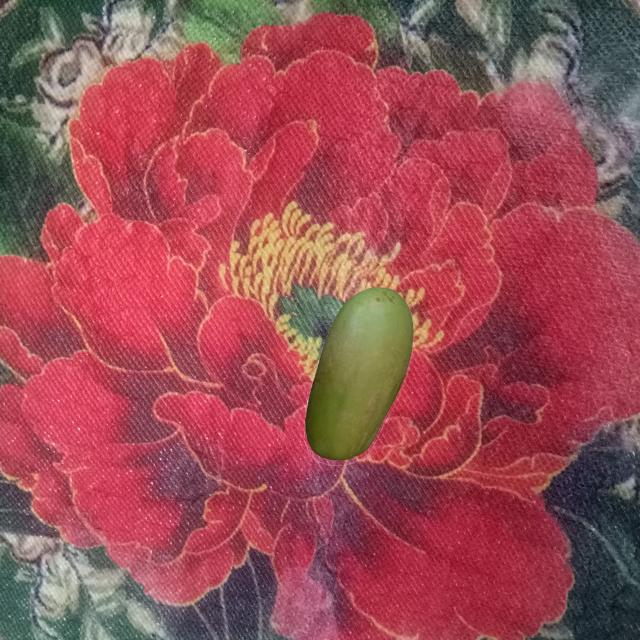Pepaya unrippen: (304, 286, 416, 468)
